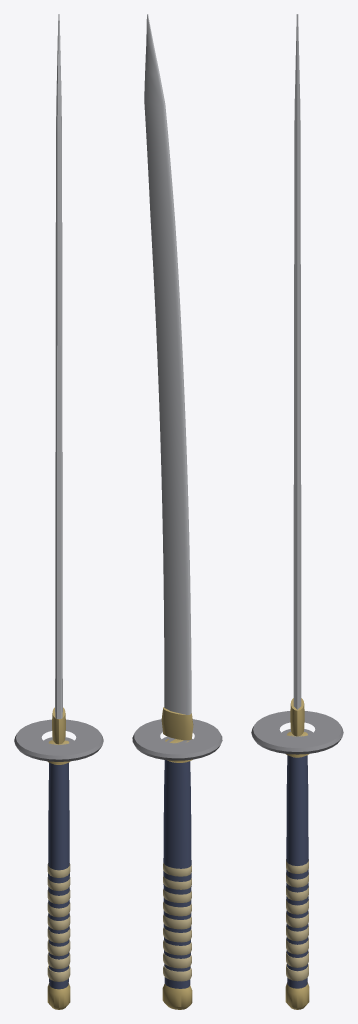
Rendered from dai_katana.glb.
3 views of the same model, side by side, from view 1: azimuth 90°, elevation 25°; view 2: azimuth 150°, elevation 25°; view 3: azimuth 270°, elevation 25° (orthographic). The views are drawn at different scales.
Parts seen in each view (by area): view 1: OUT; view 2: OUT; view 3: OUT.
Boxes of the visible parts, box(x1,y1,x2,y2) form: OUT: box(14, 14, 103, 1009); OUT: box(132, 14, 222, 1009); OUT: box(251, 14, 343, 1009).
Bounding box in the file's own units: 0.104 × 1.25 × 0.104.
